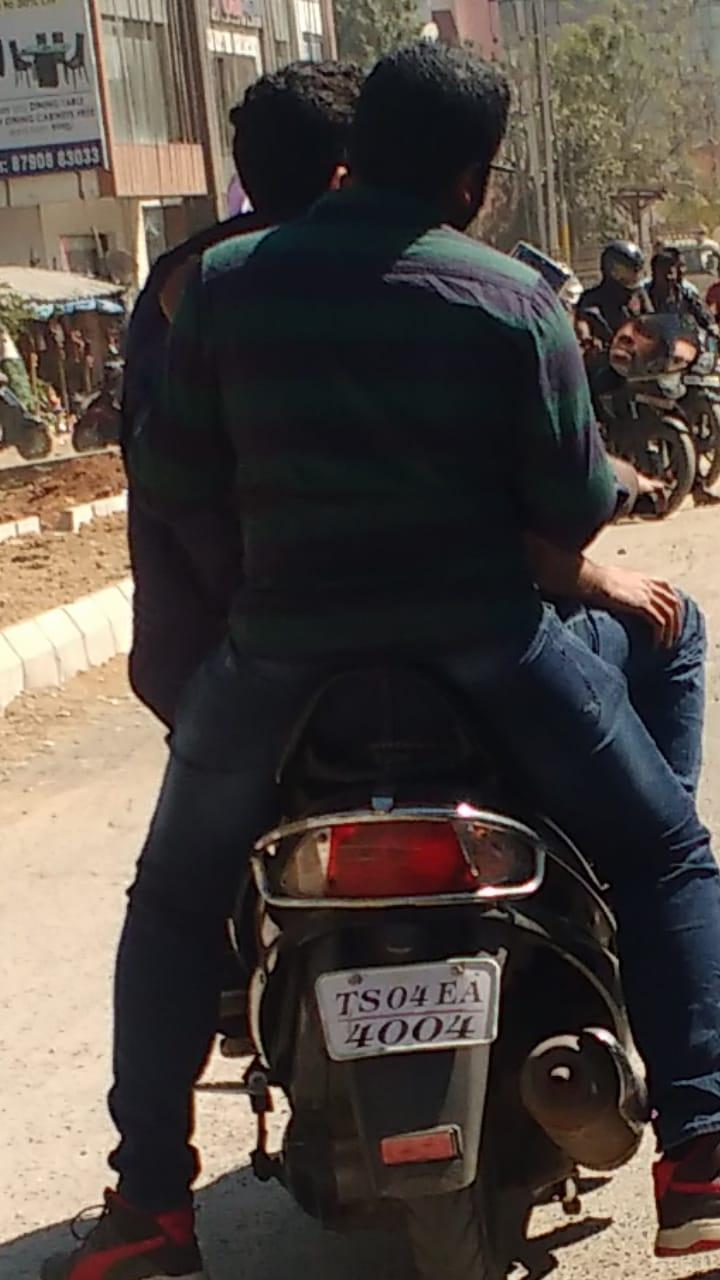plate: (326, 979, 479, 1053)
